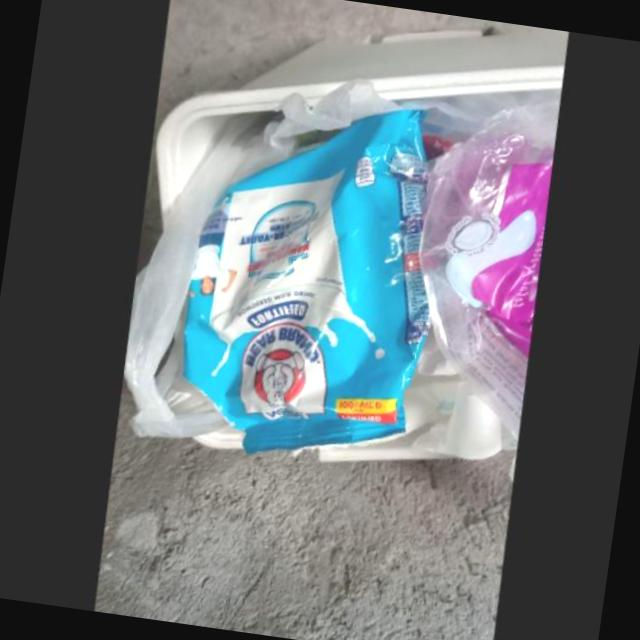bao_bi_thuc_pham: (174, 112, 421, 458)
giay: (403, 387, 494, 468)
tui_ni_long: (408, 106, 547, 451)
